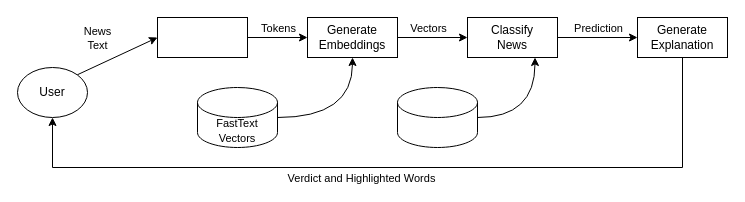
Image size: 745x202. Some labels were removed from this diagram. The shapes that lost their labels are listed below. From the top down, each one's centre as x and y in pixels, then its label:
the point at 202,37: Preprocess Text
the point at 437,117: Model Weights
